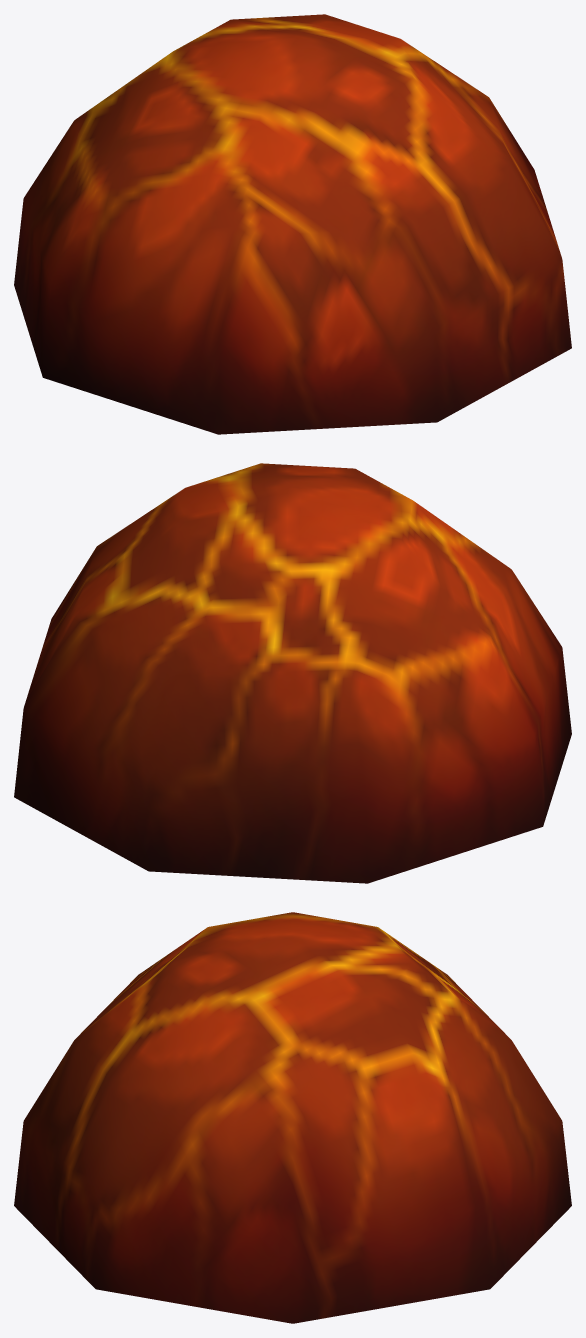
File: Lava_Rock_01c.FBX
3 renders of one model, top to bottom at view 1: azimuth 30°, elevation 25°; view 2: azimuth 150°, elevation 25°; view 3: azimuth 270°, elevation 25°, orthographic. The views are drawn at different scales.
Parts seen in each view (by area): view 1: Lava_Rock_01c; view 2: Lava_Rock_01c; view 3: Lava_Rock_01c.
Part boxes in pixels (bbox=[...]): Lava_Rock_01c: bbox=[14, 14, 571, 434]; Lava_Rock_01c: bbox=[14, 463, 571, 883]; Lava_Rock_01c: bbox=[14, 912, 571, 1323].
Size of the model in its own units: 75.82 by 40.2 by 75.82.
